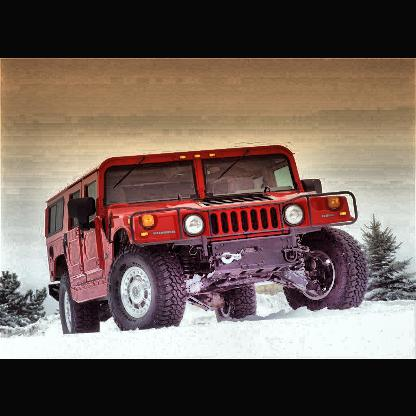AM General Hummer SUV 2000: (46, 145, 369, 335)
